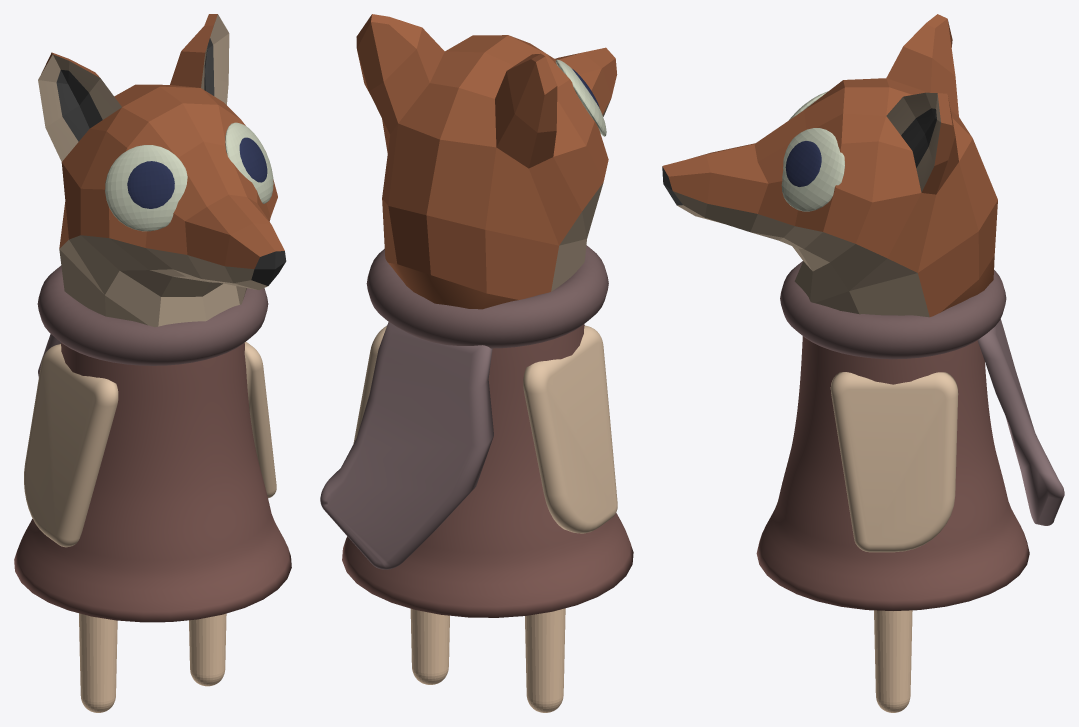
File: fox remaster.fbx
The picture shows the model from 3 angles, left to right: view 1: azimuth 30°, elevation 25°; view 2: azimuth 150°, elevation 25°; view 3: azimuth 270°, elevation 25°; orthographic projection. The views are drawn at different scales.
Parts seen in each view (by area): view 1: Cylinder.163, Fox_Mesh, Cube.038, Torus.013, Cylinder.162, Sphere.023, Sphere.022; view 2: Fox_Mesh, Cylinder.163, Cube.037, Cube.038, Torus.013, Cylinder.162, Sphere.023; view 3: Fox_Mesh, Cylinder.163, Cube.038, Torus.013, Cube.037, Cylinder.162, Sphere.023, Sphere.022.
Boxes of the visible parts, x1,y1,x2,y2 form: Cylinder.163: (14,342,291,622); Fox_Mesh: (38,14,286,327); Cube.038: (24,342,276,547); Torus.013: (37,265,268,365); Cylinder.162: (79,613,226,712); Sphere.023: (105,122,273,231); Sphere.022: (127,137,267,208); Fox_Mesh: (356,14,617,309); Cylinder.163: (342,324,633,617); Cube.037: (320,322,493,569); Cube.038: (353,325,617,533); Torus.013: (366,245,608,348); Cylinder.162: (410,608,565,712); Sphere.023: (555,59,606,136); Fox_Mesh: (662,14,997,317); Cylinder.163: (756,336,1029,610); Cube.038: (830,372,958,552); Torus.013: (780,261,1006,359); Cube.037: (977,319,1064,525); Cylinder.162: (874,610,912,712); Sphere.023: (781,91,844,211); Sphere.022: (785,141,821,186).
Bounding box in the file's own units: 76.64 × 196 × 113.
